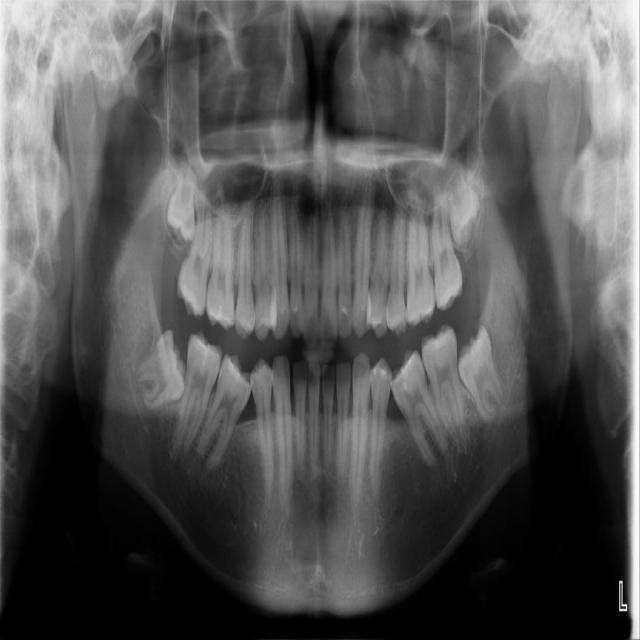3M ESPE Implant: (167, 163, 196, 243)
52: (173, 324, 240, 391), (204, 348, 269, 415), (375, 345, 437, 415), (410, 320, 470, 379), (204, 276, 236, 334), (368, 356, 393, 402)
73: (574, 550, 578, 574)
BioHorizons Implant: (424, 191, 464, 309)
BioLife Implant: (447, 178, 483, 249)
Biomet 3i Implant: (446, 326, 514, 427)
Blue Sky Bio Implant: (421, 323, 470, 460)
Caries: (174, 176, 215, 318)
Implant: (169, 325, 228, 467)
Keystone Dental Implant: (125, 330, 196, 415)
